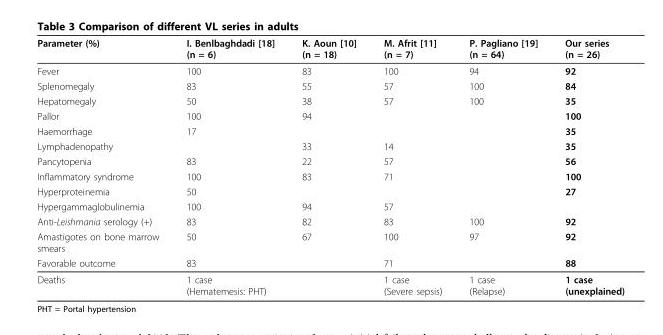table: (36, 36, 623, 296)
table column: (36, 36, 172, 296), (172, 36, 287, 296), (454, 36, 550, 296), (369, 36, 454, 296), (287, 36, 369, 296), (550, 36, 623, 296)
table column header: (36, 36, 623, 62)
table row: (36, 228, 623, 255), (36, 36, 623, 62), (36, 270, 623, 296), (36, 62, 623, 78), (36, 78, 623, 93), (36, 93, 623, 108), (36, 108, 623, 123), (36, 123, 623, 138), (36, 138, 623, 153), (36, 153, 623, 168), (36, 168, 623, 183), (36, 183, 623, 198), (36, 198, 623, 213), (36, 213, 623, 228), (36, 255, 623, 270)
